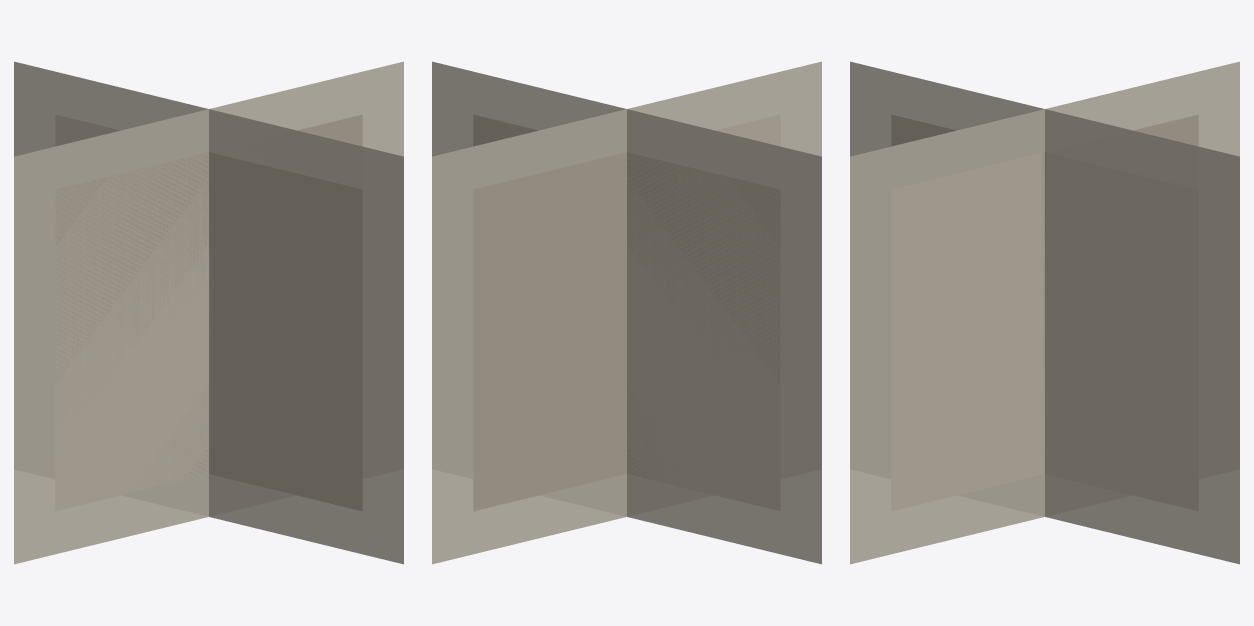
Rendered from dust_puff.obj.
3 views of the same model, side by side, from view 1: azimuth 30°, elevation 25°; view 2: azimuth 150°, elevation 25°; view 3: azimuth 270°, elevation 25° (orthographic).
Visible parts, largest first — view 1: dust_puff; view 2: dust_puff; view 3: dust_puff.
Part boxes in pixels (box(x1,y1,x2,y2)): dust_puff: box(14, 61, 403, 564); dust_puff: box(432, 61, 821, 564); dust_puff: box(850, 61, 1239, 564).
Size of the model in its own units: 0.76 by 0.76 by 0.6582.
